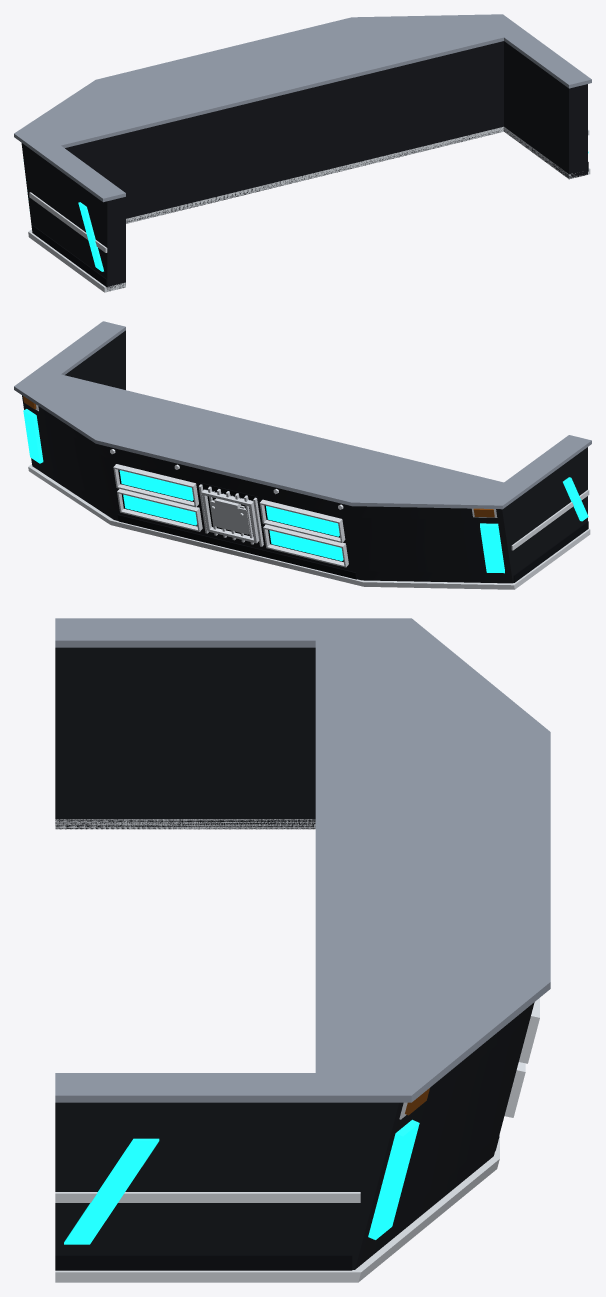
Rendered from fb_wrap_deck4.glb.
3 views of the same model, one above another, from view 1: azimuth 30°, elevation 25°; view 2: azimuth 150°, elevation 25°; view 3: azimuth 270°, elevation 25° (orthographic). The views are drawn at different scales.
Parts seen in each view (by area): view 1: fb_wrap_deck4_LMID_deco_body, fb_wrap_deck4_LTOP_deco_checker, fb_wrap_deck4_LTOP_deco_body, fb_wrap_deck4_BOT_deco_body, fb_wrap_deck4_LBOT_deco_body, fb_wrap_deck4_BOT_chrome, fb_wrap_deck4_BOT_deco_trim, fb_wrap_deck4_LMID_deco_neon, fb_wrap_deck4_MID_chrome; view 2: fb_wrap_deck4_LTOP_deco_checker, fb_wrap_deck4_LMID_deco_body, fb_wrap_deck4_LTOP_deco_body, fb_wrap_deck4_LMID_deco_neon, fb_wrap_deck4_MID_chrome, fb_wrap_deck4_BOT_chrome, fb_wrap_deck4_BOT_deco_body, fb_wrap_deck4_BOT_deco_trim, fb_wrap_deck4_LBOT_deco_body, fb_wrap_deck4_CEN_chrome, fb_wrap_deck4_CEN_deco_plate, fb_wrap_deck4_LMID_deco_trim; view 3: fb_wrap_deck4_LTOP_deco_checker, fb_wrap_deck4_LMID_deco_body, fb_wrap_deck4_LTOP_deco_body, fb_wrap_deck4_BOT_deco_body, fb_wrap_deck4_BOT_chrome, fb_wrap_deck4_LBOT_deco_body, fb_wrap_deck4_LMID_deco_neon, fb_wrap_deck4_BOT_deco_trim, fb_wrap_deck4_MID_chrome.
Boxes of the visible parts, bbox=[...] form: fb_wrap_deck4_LMID_deco_body: bbox=[23, 57, 587, 276]; fb_wrap_deck4_LTOP_deco_checker: bbox=[14, 14, 591, 202]; fb_wrap_deck4_LTOP_deco_body: bbox=[21, 41, 587, 217]; fb_wrap_deck4_BOT_deco_body: bbox=[31, 116, 587, 289]; fb_wrap_deck4_LBOT_deco_body: bbox=[31, 116, 587, 290]; fb_wrap_deck4_BOT_chrome: bbox=[28, 126, 590, 292]; fb_wrap_deck4_BOT_deco_trim: bbox=[32, 162, 588, 287]; fb_wrap_deck4_LMID_deco_neon: bbox=[78, 151, 588, 271]; fb_wrap_deck4_MID_chrome: bbox=[29, 129, 589, 252]; fb_wrap_deck4_LTOP_deco_checker: bbox=[14, 321, 591, 509]; fb_wrap_deck4_LMID_deco_body: bbox=[23, 346, 587, 573]; fb_wrap_deck4_LTOP_deco_body: bbox=[22, 330, 587, 520]; fb_wrap_deck4_LMID_deco_neon: bbox=[23, 409, 588, 573]; fb_wrap_deck4_MID_chrome: bbox=[113, 464, 589, 567]; fb_wrap_deck4_BOT_chrome: bbox=[28, 464, 590, 589]; fb_wrap_deck4_BOT_deco_body: bbox=[31, 458, 587, 583]; fb_wrap_deck4_BOT_deco_trim: bbox=[117, 514, 588, 582]; fb_wrap_deck4_LBOT_deco_body: bbox=[32, 459, 587, 582]; fb_wrap_deck4_CEN_chrome: bbox=[201, 489, 258, 543]; fb_wrap_deck4_CEN_deco_plate: bbox=[210, 500, 250, 534]; fb_wrap_deck4_LMID_deco_trim: bbox=[118, 469, 343, 561]; fb_wrap_deck4_LTOP_deco_checker: bbox=[55, 618, 550, 1102]; fb_wrap_deck4_LMID_deco_body: bbox=[55, 680, 530, 1248]; fb_wrap_deck4_LTOP_deco_body: bbox=[55, 647, 534, 1130]; fb_wrap_deck4_BOT_deco_body: bbox=[55, 798, 499, 1269]; fb_wrap_deck4_BOT_chrome: bbox=[55, 819, 499, 1282]; fb_wrap_deck4_LBOT_deco_body: bbox=[55, 798, 498, 1269]; fb_wrap_deck4_LMID_deco_neon: bbox=[64, 1119, 419, 1244]; fb_wrap_deck4_BOT_deco_trim: bbox=[55, 1136, 499, 1270]; fb_wrap_deck4_MID_chrome: bbox=[55, 998, 539, 1202].
Size of the model in its own units: 2.6 by 0.48 by 1.14.
